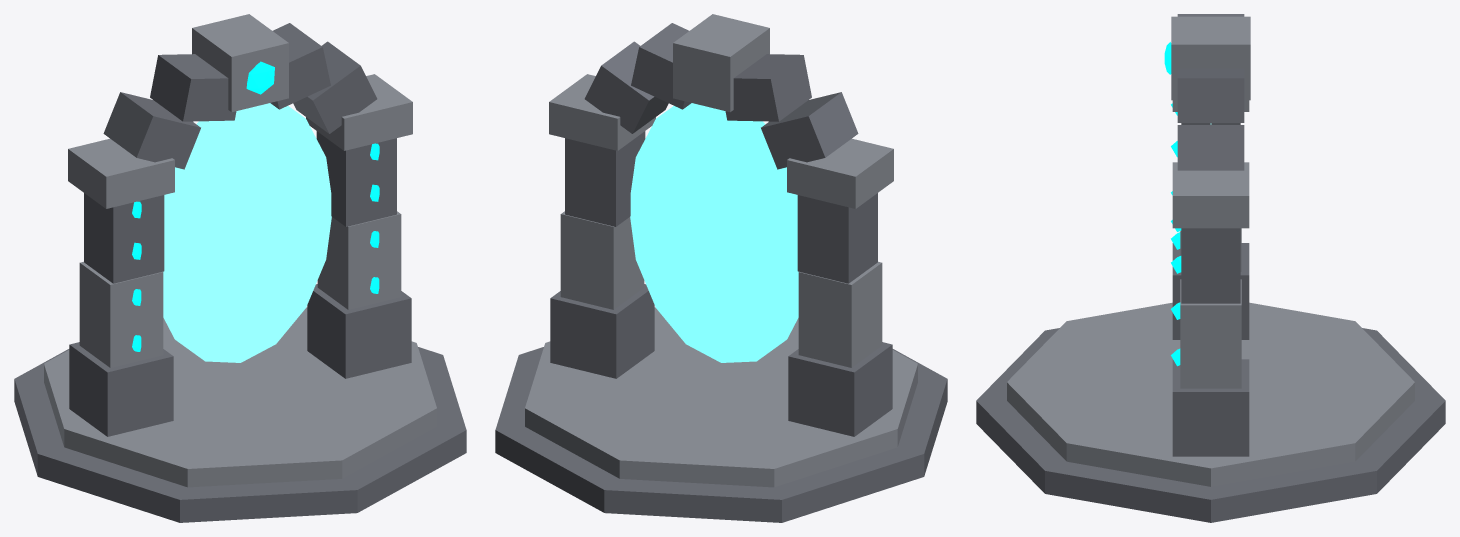
The model's file is Teleporter_Portal.fbx.
3 renders of one model, left to right at view 1: azimuth 30°, elevation 25°; view 2: azimuth 150°, elevation 25°; view 3: azimuth 270°, elevation 25°, orthographic.
Visible parts, largest first — view 1: BaseDais_Top, PortalVortex, BaseDais_Bottom, PillarPlinth_L, PillarPlinth_R, PillarCol1_L, PillarCol1_R, Arch_Keystone, PillarCol2_L, PillarCapital_L, PillarCol2_R, Arch_L1 (+5 smaller); view 2: BaseDais_Top, PortalVortex, BaseDais_Bottom, PillarPlinth_L, PillarPlinth_R, PillarCol1_L, Arch_Keystone, PillarCol1_R, PillarCol2_L, PillarCol2_R, PillarCapital_L, Arch_L1 (+4 smaller); view 3: BaseDais_Top, BaseDais_Bottom, PillarPlinth_R, PillarCol1_R, PillarCapital_R, Arch_Keystone, PillarCol2_R, Arch_R2, Arch_R1, PillarPlinth_L.
Part boxes in pixels (x1,y1,x2,y2): BaseDais_Top: (44,307,436,487); PortalVortex: (163,103,331,362); BaseDais_Bottom: (14,347,466,522); PillarPlinth_L: (69,342,173,436); PillarPlinth_R: (307,284,411,378); PillarCol1_L: (79,261,163,367); PillarCol1_R: (317,211,401,309); Arch_Keystone: (192,14,288,112); PillarCol2_L: (84,193,164,283); PillarCapital_L: (68,138,174,208); PillarCol2_R: (316,131,396,226); Arch_L1: (103,92,200,169); BaseDais_Top: (525,307,917,487); PortalVortex: (630,103,798,362); BaseDais_Bottom: (495,347,947,522); PillarPlinth_L: (788,342,892,436); PillarPlinth_R: (550,284,654,378); PillarCol1_L: (798,261,882,367); Arch_Keystone: (673,14,769,112); PillarCol1_R: (560,211,644,309); PillarCol2_L: (797,193,877,283); PillarCol2_R: (565,131,645,226); PillarCapital_L: (787,138,893,208); Arch_L1: (761,92,858,169); BaseDais_Top: (1007,302,1414,486); BaseDais_Bottom: (976,328,1445,522); PillarPlinth_R: (1172,359,1249,456); PillarCol1_R: (1180,279,1241,388); PillarCapital_R: (1172,162,1249,228); Arch_Keystone: (1171,16,1250,100); PillarCol2_R: (1181,228,1240,303); Arch_R2: (1177,68,1244,122); Arch_R1: (1177,125,1244,170); PillarPlinth_L: (1172,243,1249,339).
Bounding box in the file's own units: 4.6 × 4.6 × 4.25.
